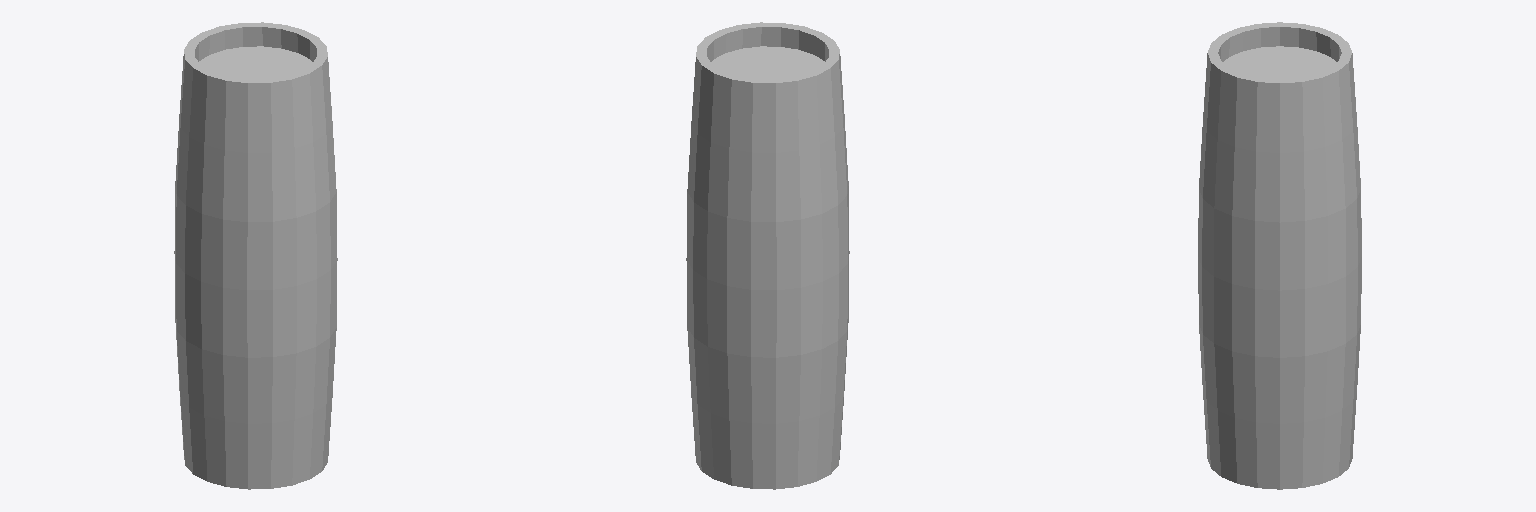
File: Barril2.obj
3 views of the same model, side by side, from view 1: azimuth 30°, elevation 25°; view 2: azimuth 150°, elevation 25°; view 3: azimuth 270°, elevation 25° (orthographic).
Parts seen in each view (by area): view 1: Barrel_body.001; view 2: Barrel_body.001; view 3: Barrel_body.001.
Boxes of the visible parts, box(x1,y1,x2,y2) form: Barrel_body.001: box(174, 22, 337, 489); Barrel_body.001: box(686, 22, 849, 489); Barrel_body.001: box(1198, 22, 1361, 489).
Bounding box in the file's own units: 1.11 × 3.04 × 1.11.